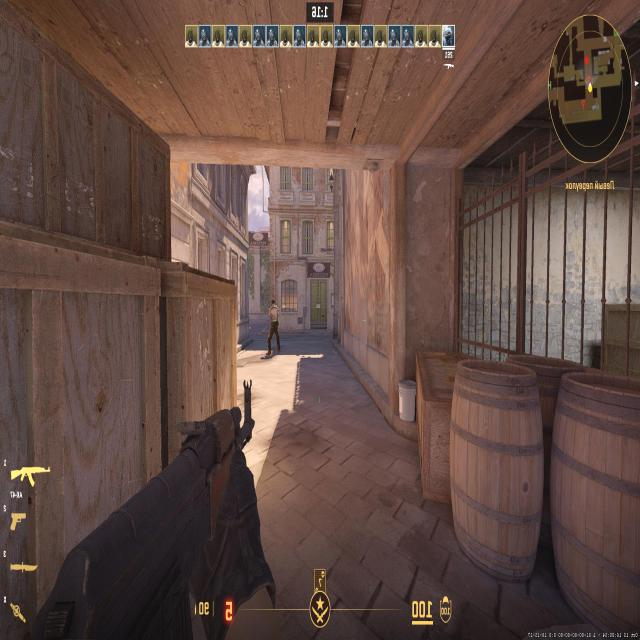T: (268, 298, 278, 353)
T_heat: (272, 299, 278, 311)
